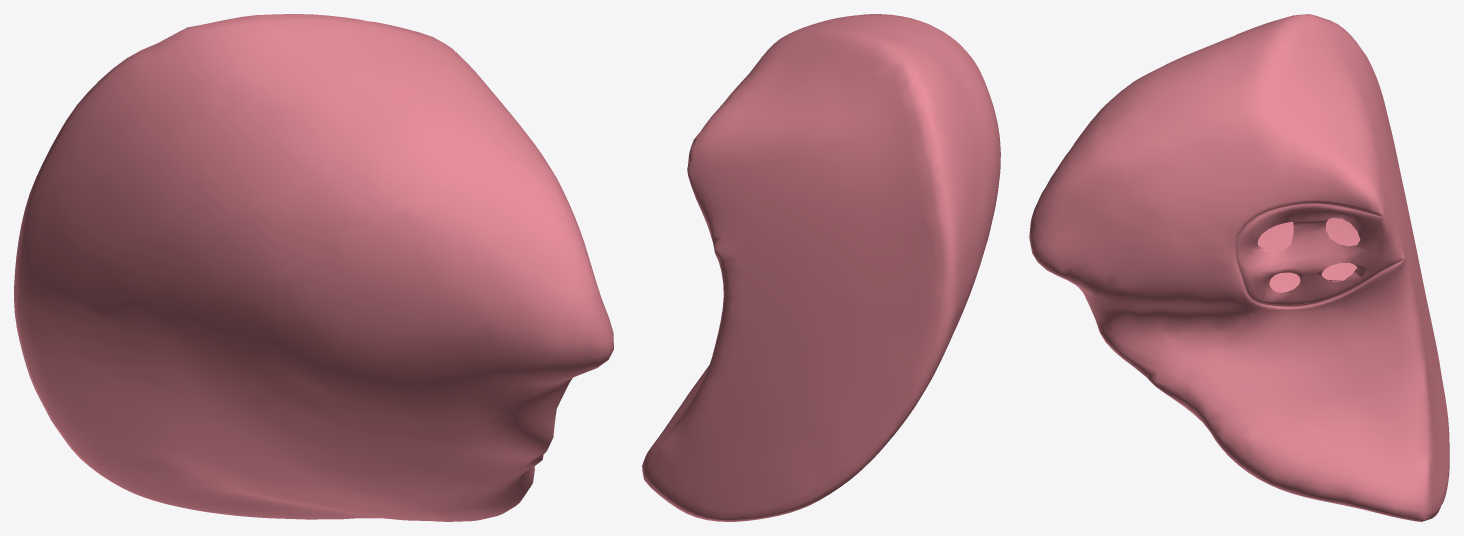
3 views of the same model, side by side, from view 1: azimuth 30°, elevation 25°; view 2: azimuth 150°, elevation 25°; view 3: azimuth 270°, elevation 25° (orthographic). The views are drawn at different scales.
Parts seen in each view (by area): view 1: 右肺上叶; view 2: 右肺上叶; view 3: 右肺上叶.
Boxes of the visible parts, x1,y1,x2,y2 form: 右肺上叶: (14, 14, 613, 521); 右肺上叶: (642, 14, 1000, 521); 右肺上叶: (1029, 14, 1449, 521).
Bounding box in the file's own units: 0.1624 × 0.2293 × 0.2024.
